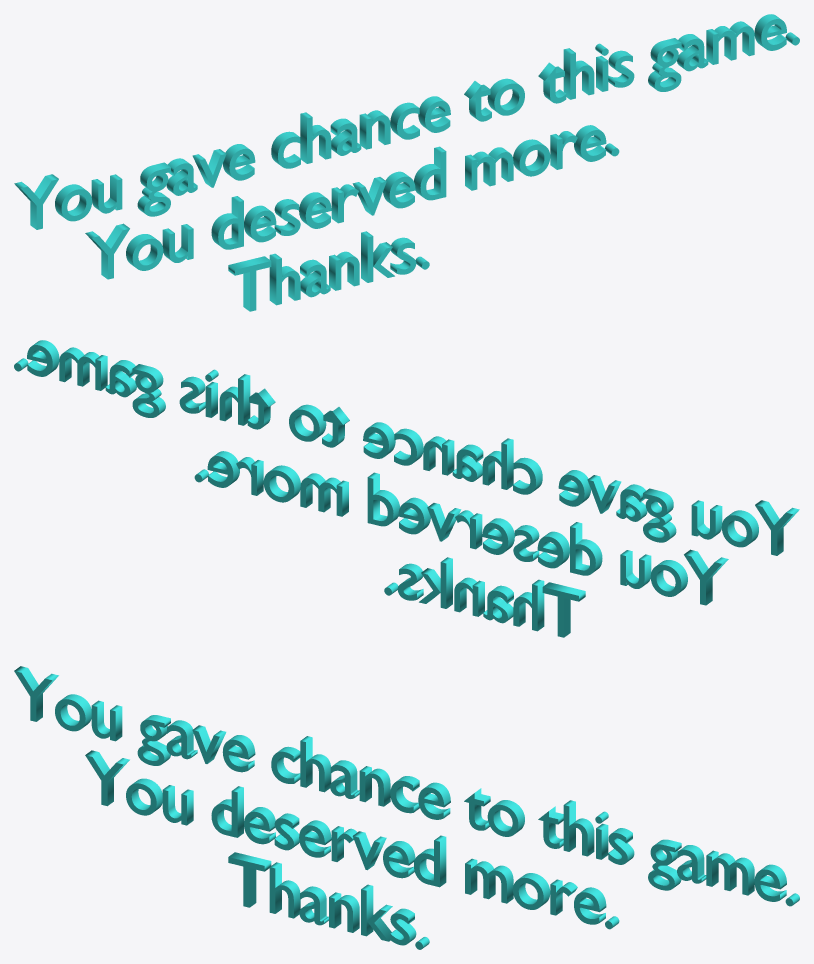
3 renders of one model, top to bottom at view 1: azimuth 30°, elevation 25°; view 2: azimuth 150°, elevation 25°; view 3: azimuth 330°, elevation 25°, orthographic.
Visible parts, largest first — view 1: Text; view 2: Text; view 3: Text.
Boxes of the visible parts, x1,y1,x2,y2 form: Text: [14, 14, 799, 311]; Text: [14, 340, 799, 637]; Text: [14, 666, 799, 949].
Size of the model in its own units: 1219 by 269 by 18.
